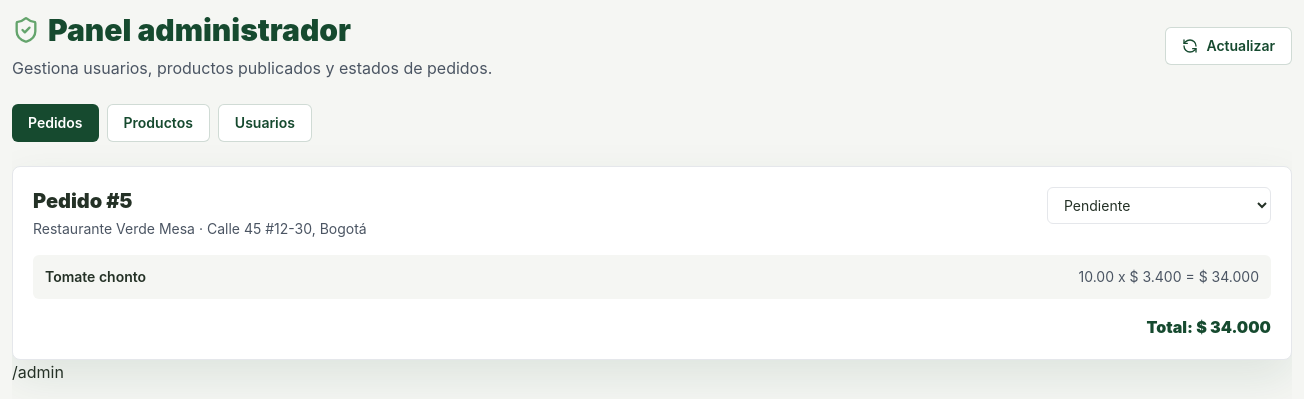
Panel administrador › al cancelar bloquea el pedido y recarga los productos
Step 1. Select "Cancelado" in the dropdown named "Estado del pedido 5" → (1159, 206), box [1047,187,1271,224]
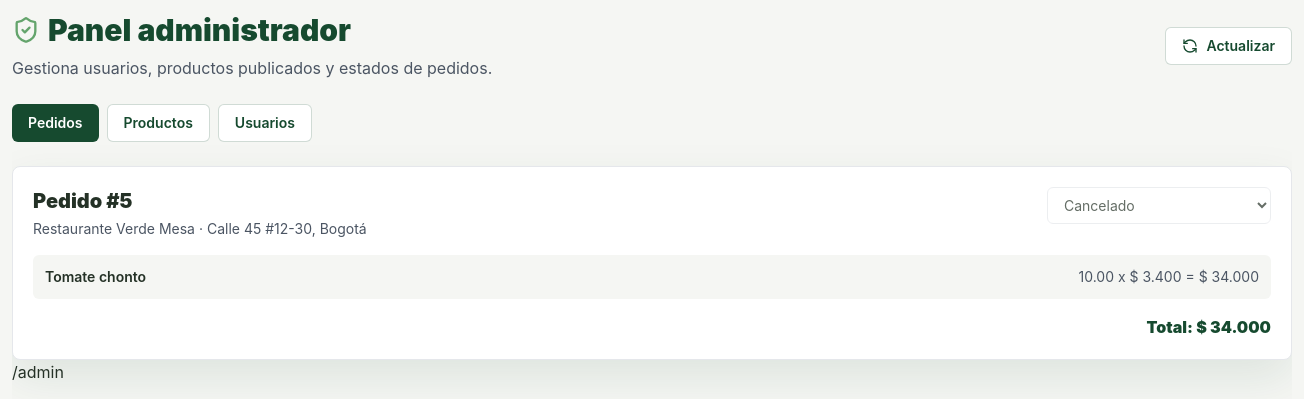
Now the dropdown named "Estado del pedido 5" is disabled, box [1047,187,1271,224]
